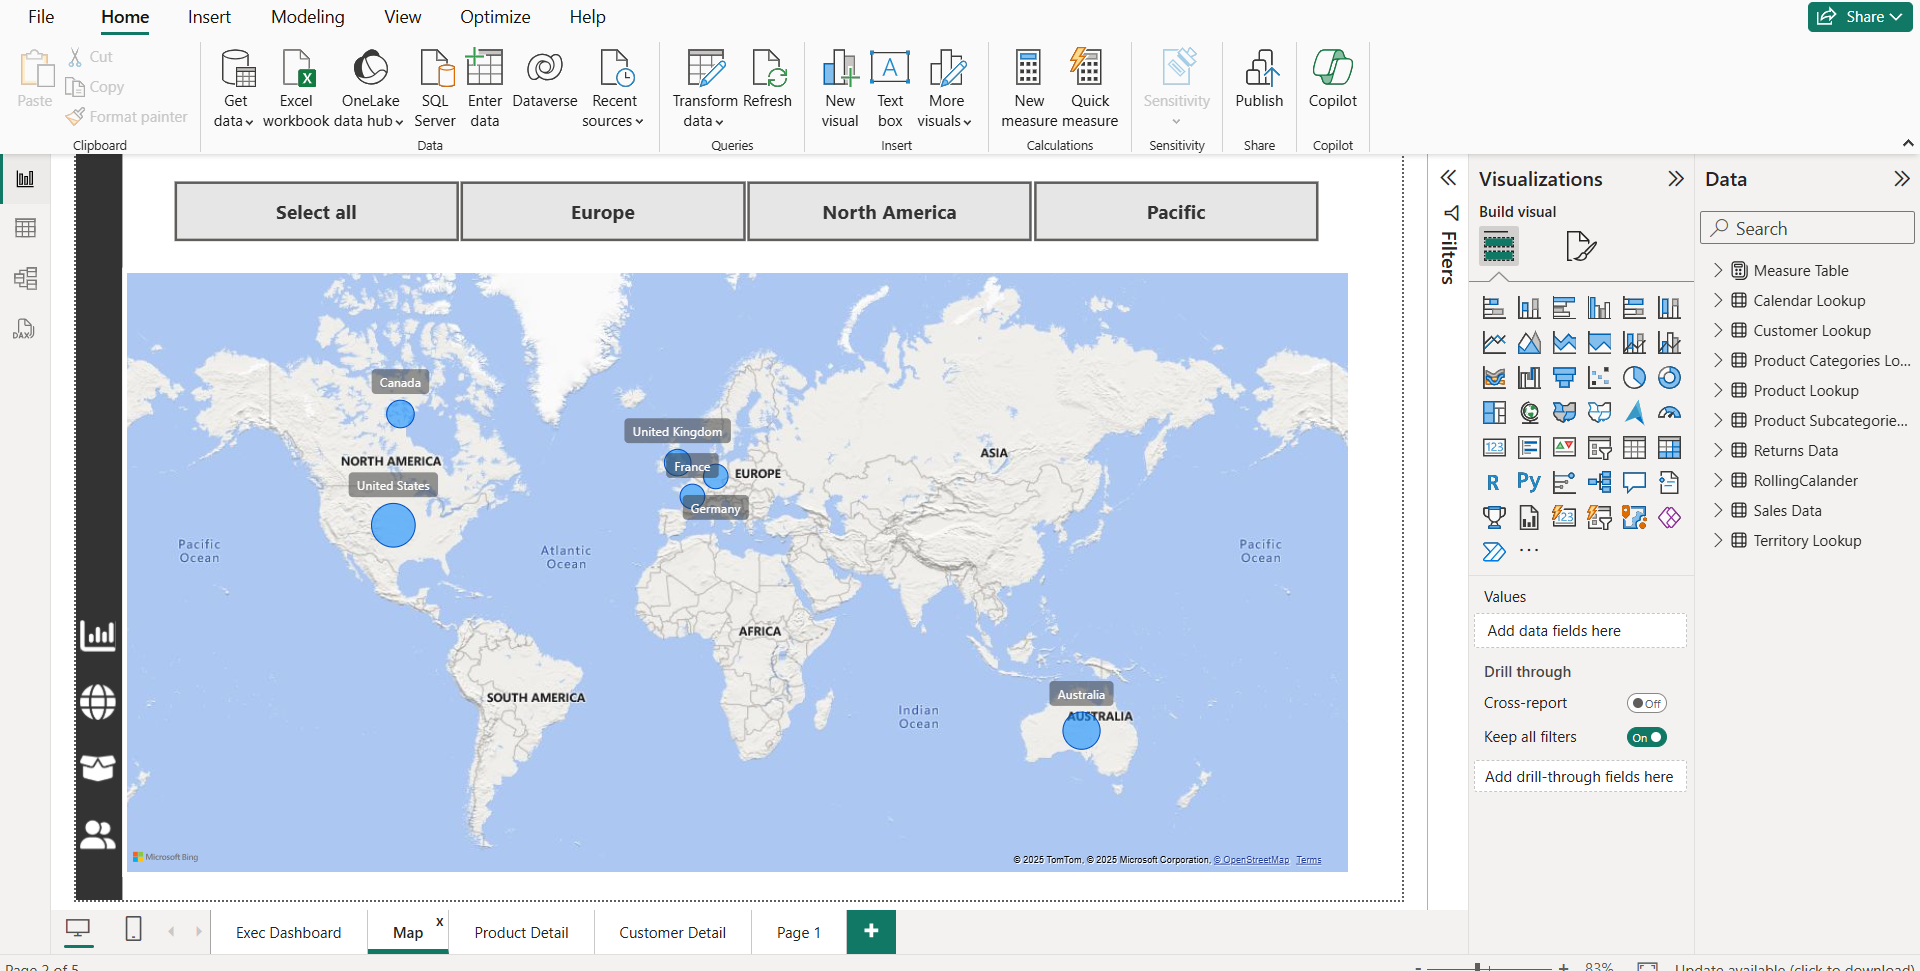

Layout of this report page (visuals, bound fields, positions):
{"tool":"powerbi","page":{"name":"Map","canvas":[1280,720],"ordinal":1},"visuals":[{"type":"shape","box":[0,0,45,720.2],"z":0},{"type":"map","fields":{"Category":["Territory Lookup.Country"],"Size":["Measure Table.Total Orders"]},"box":[44.7,109.2,1187.9,588.4],"z":1000},{"type":"actionButton","box":[0,571.9,67.6,42.2],"z":1000,"group":"g1"},{"type":"actionButton","box":[0,444,67.6,42.2],"z":2000,"group":"g1"},{"type":"slicer","fields":{"Values":["Territory Lookup.Continent"]},"box":[68.3,19.9,1154.4,72],"z":2000},{"type":"actionButton","box":[0,635.8,67.6,42.2],"z":3000,"group":"g1"},{"type":"group","id":"g1","title":"Navigation Buttons","box":[0,444,67.6,234],"z":3000},{"type":"actionButton","box":[0,507.9,67.6,42.2],"z":4000,"group":"g1"}]}

Visuals, with their boxes on the page's 1280x720 design canvas (x1, y1, x2, y2). These are canvas units, not pixel positions in the 1920x971 screenshot, which may show the page scaled, cropped or inside an application window:
shape: rect(0, 0, 45, 720)
map - Territory Lookup.Country x Measure Table.Total Orders: rect(45, 109, 1233, 698)
actionButton: rect(0, 572, 68, 614)
actionButton: rect(0, 444, 68, 486)
slicer - Territory Lookup.Continent: rect(68, 20, 1223, 92)
actionButton: rect(0, 636, 68, 678)
"Navigation Buttons" group: rect(0, 444, 68, 678)
actionButton: rect(0, 508, 68, 550)
